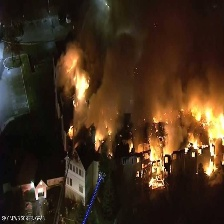fire: (179, 107, 224, 177), (141, 140, 170, 190), (66, 54, 93, 98), (93, 126, 106, 153), (146, 113, 171, 127), (65, 120, 77, 141), (126, 140, 135, 151)
smoke: (103, 10, 224, 104)
